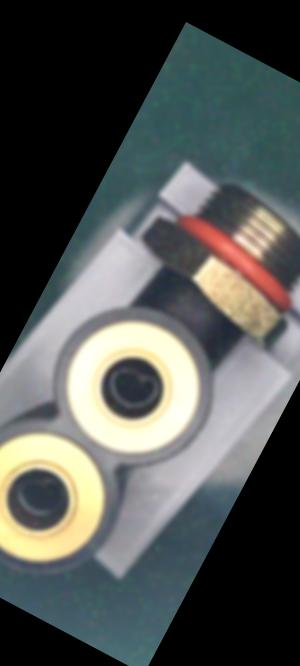joint line: (184, 298, 204, 325)
off-centered: (5, 458, 78, 531), (93, 351, 169, 421)
